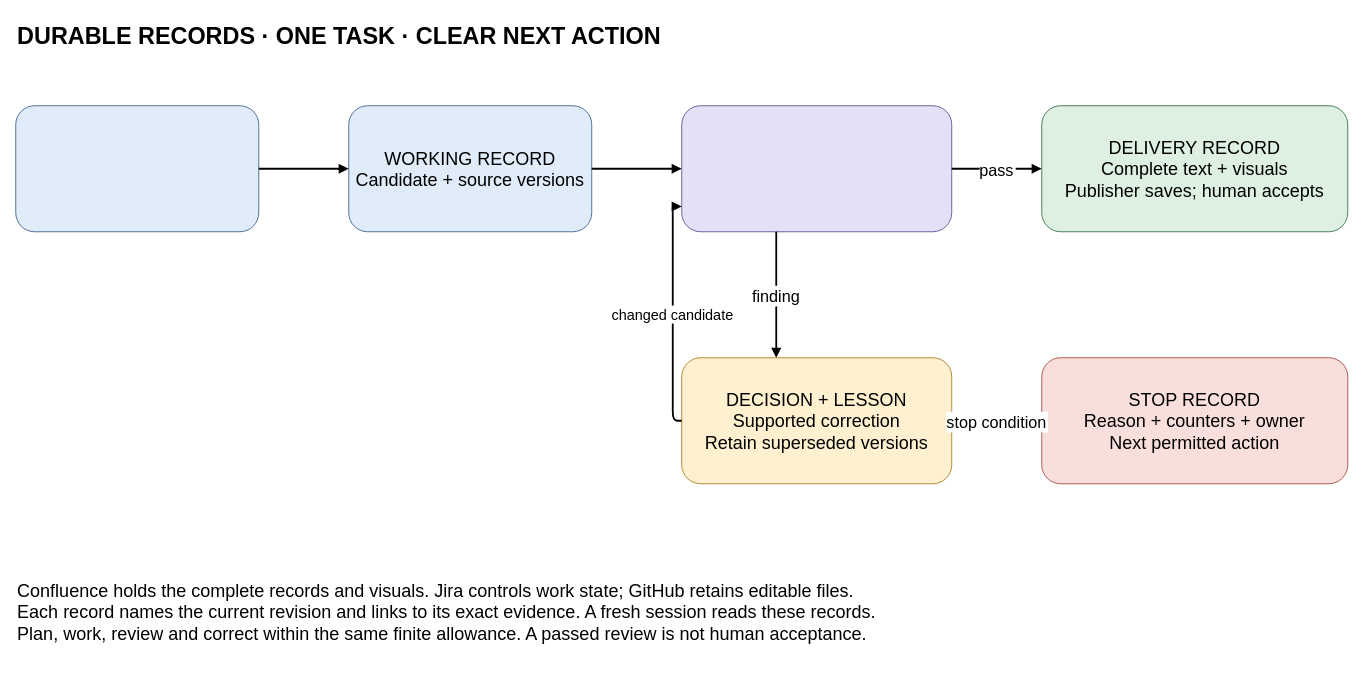
Some shapes in this 1364 by 688 pixel diagram are drawn without their labels. The shapes that lost their labels are listed below. From the top down, each one's box as (x1, y1, x2, y2) in pixels, then its label:
(15, 105, 259, 232): PLAN RECORD Intent + inputs + limits
(681, 105, 952, 232): REVIEW RECORD Full report + findings
